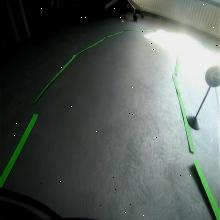left: (205, 65, 220, 87)
